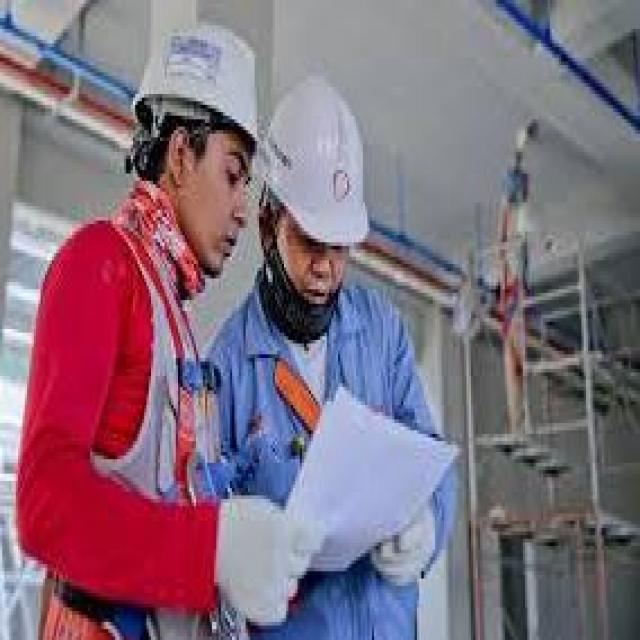Reflective-Jacket: (9, 210, 239, 636)
Safety-Helmet: (255, 65, 383, 257), (126, 18, 266, 159)
